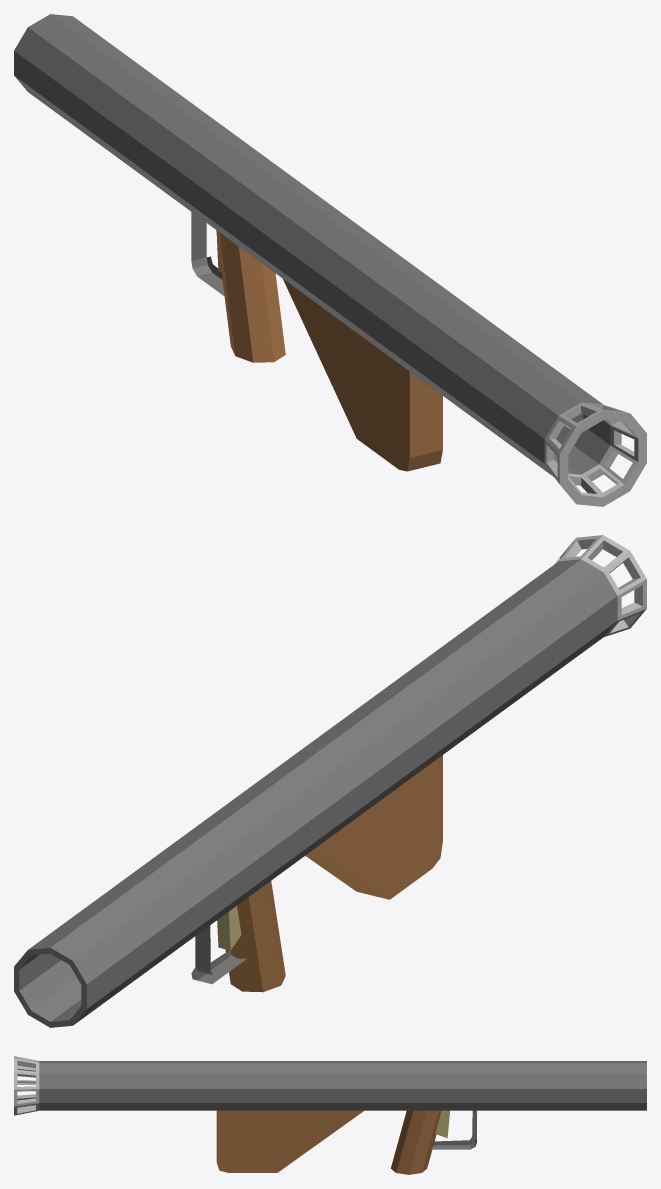
Rendered from Bazooka.glb.
3 renders of one model, top to bottom at view 1: azimuth 30°, elevation 25°; view 2: azimuth 150°, elevation 25°; view 3: azimuth 270°, elevation 25°, orthographic. The views are drawn at different scales.
Parts seen in each view (by area): view 1: Bazooka_02da07, Bazooka_14a09a, Bazooka_5a43a4; view 2: Bazooka_02da07, Bazooka_14a09a, Bazooka_5a43a4, Bazooka_ed0742; view 3: Bazooka_02da07, Bazooka_14a09a, Bazooka_5a43a4, Bazooka_ed0742.
Part boxes in pixels (x1,y1,x2,y2): Bazooka_02da07: (14, 14, 610, 477); Bazooka_14a09a: (216, 230, 442, 471); Bazooka_5a43a4: (544, 402, 646, 506); Bazooka_02da07: (14, 559, 617, 1027); Bazooka_14a09a: (225, 755, 442, 992); Bazooka_5a43a4: (555, 535, 646, 636); Bazooka_ed0742: (217, 906, 241, 950); Bazooka_02da07: (39, 1061, 646, 1149); Bazooka_14a09a: (216, 1110, 441, 1174); Bazooka_5a43a4: (14, 1056, 39, 1115); Bazooka_ed0742: (435, 1110, 449, 1138).
Bounding box in the file's own units: 0.0913 × 0.192 × 1.
